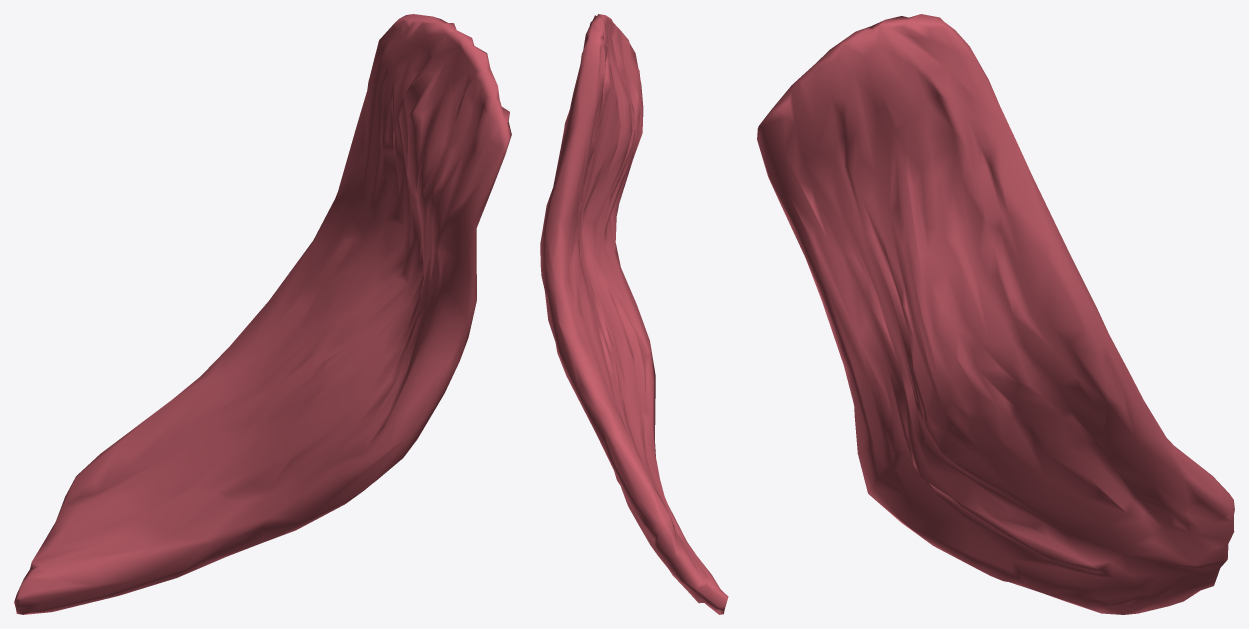
The picture shows the model from 3 angles, left to right: view 1: azimuth 30°, elevation 25°; view 2: azimuth 150°, elevation 25°; view 3: azimuth 270°, elevation 25°; orthographic projection. The views are drawn at different scales.
Visible parts, largest first — view 1: 左侧环甲肌斜部; view 2: 左侧环甲肌斜部; view 3: 左侧环甲肌斜部.
Part boxes in pixels (x1,y1,x2,y2): 左侧环甲肌斜部: (14, 14, 511, 614); 左侧环甲肌斜部: (540, 14, 728, 614); 左侧环甲肌斜部: (757, 14, 1234, 614).
Size of the model in its own units: 0.013 by 0.0233 by 0.0137.
